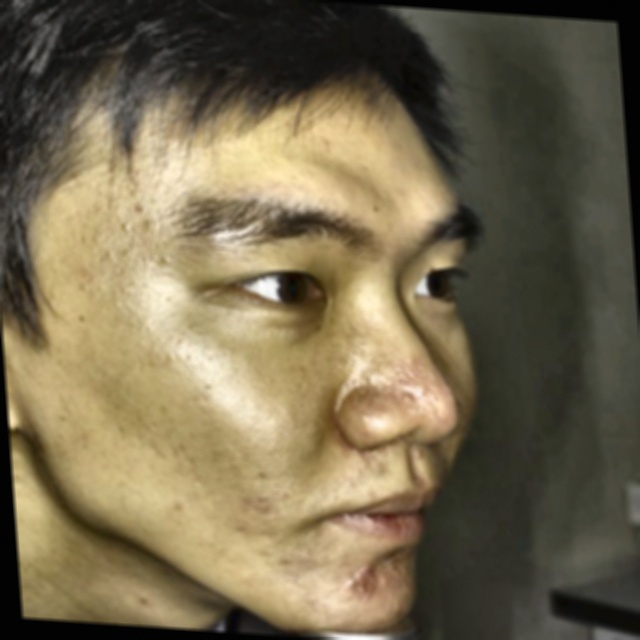comedone: (339, 561, 384, 606), (409, 444, 429, 463)
